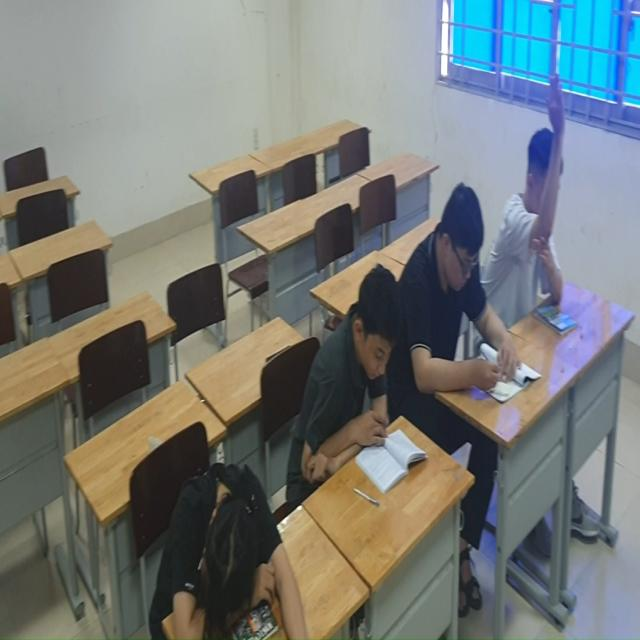raise_hand: (504, 58, 594, 361)
read: (304, 260, 431, 509), (417, 183, 544, 398)
sleep: (144, 452, 312, 640)
